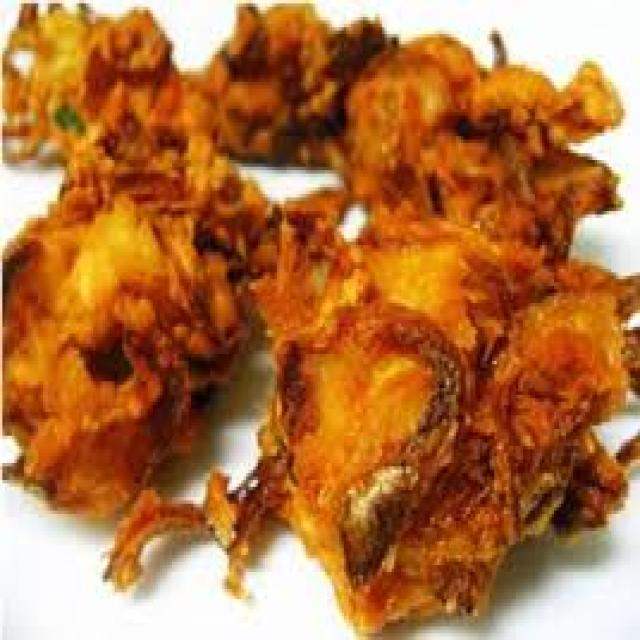BAJI: (0, 3, 638, 630)
